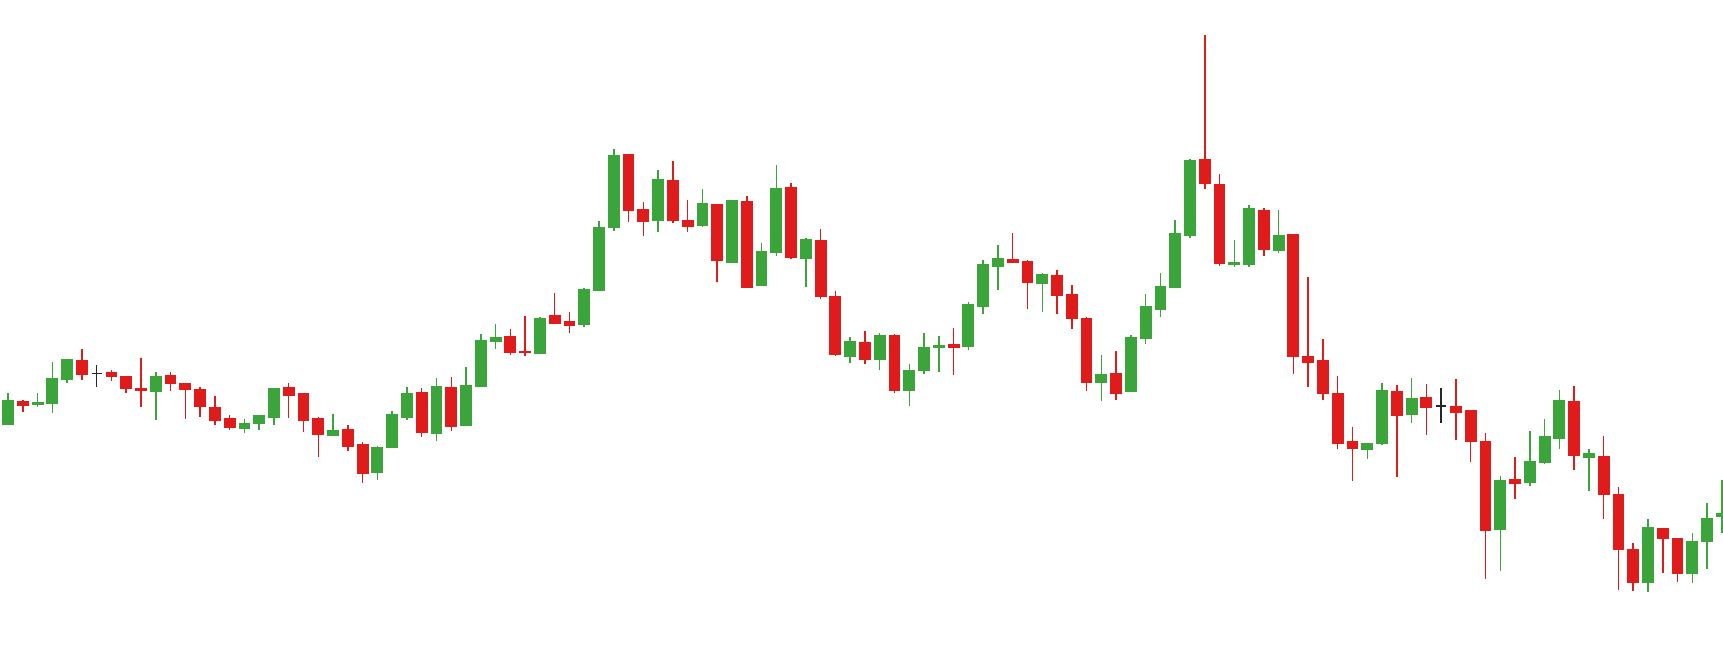sell: (605, 37, 1212, 297)
